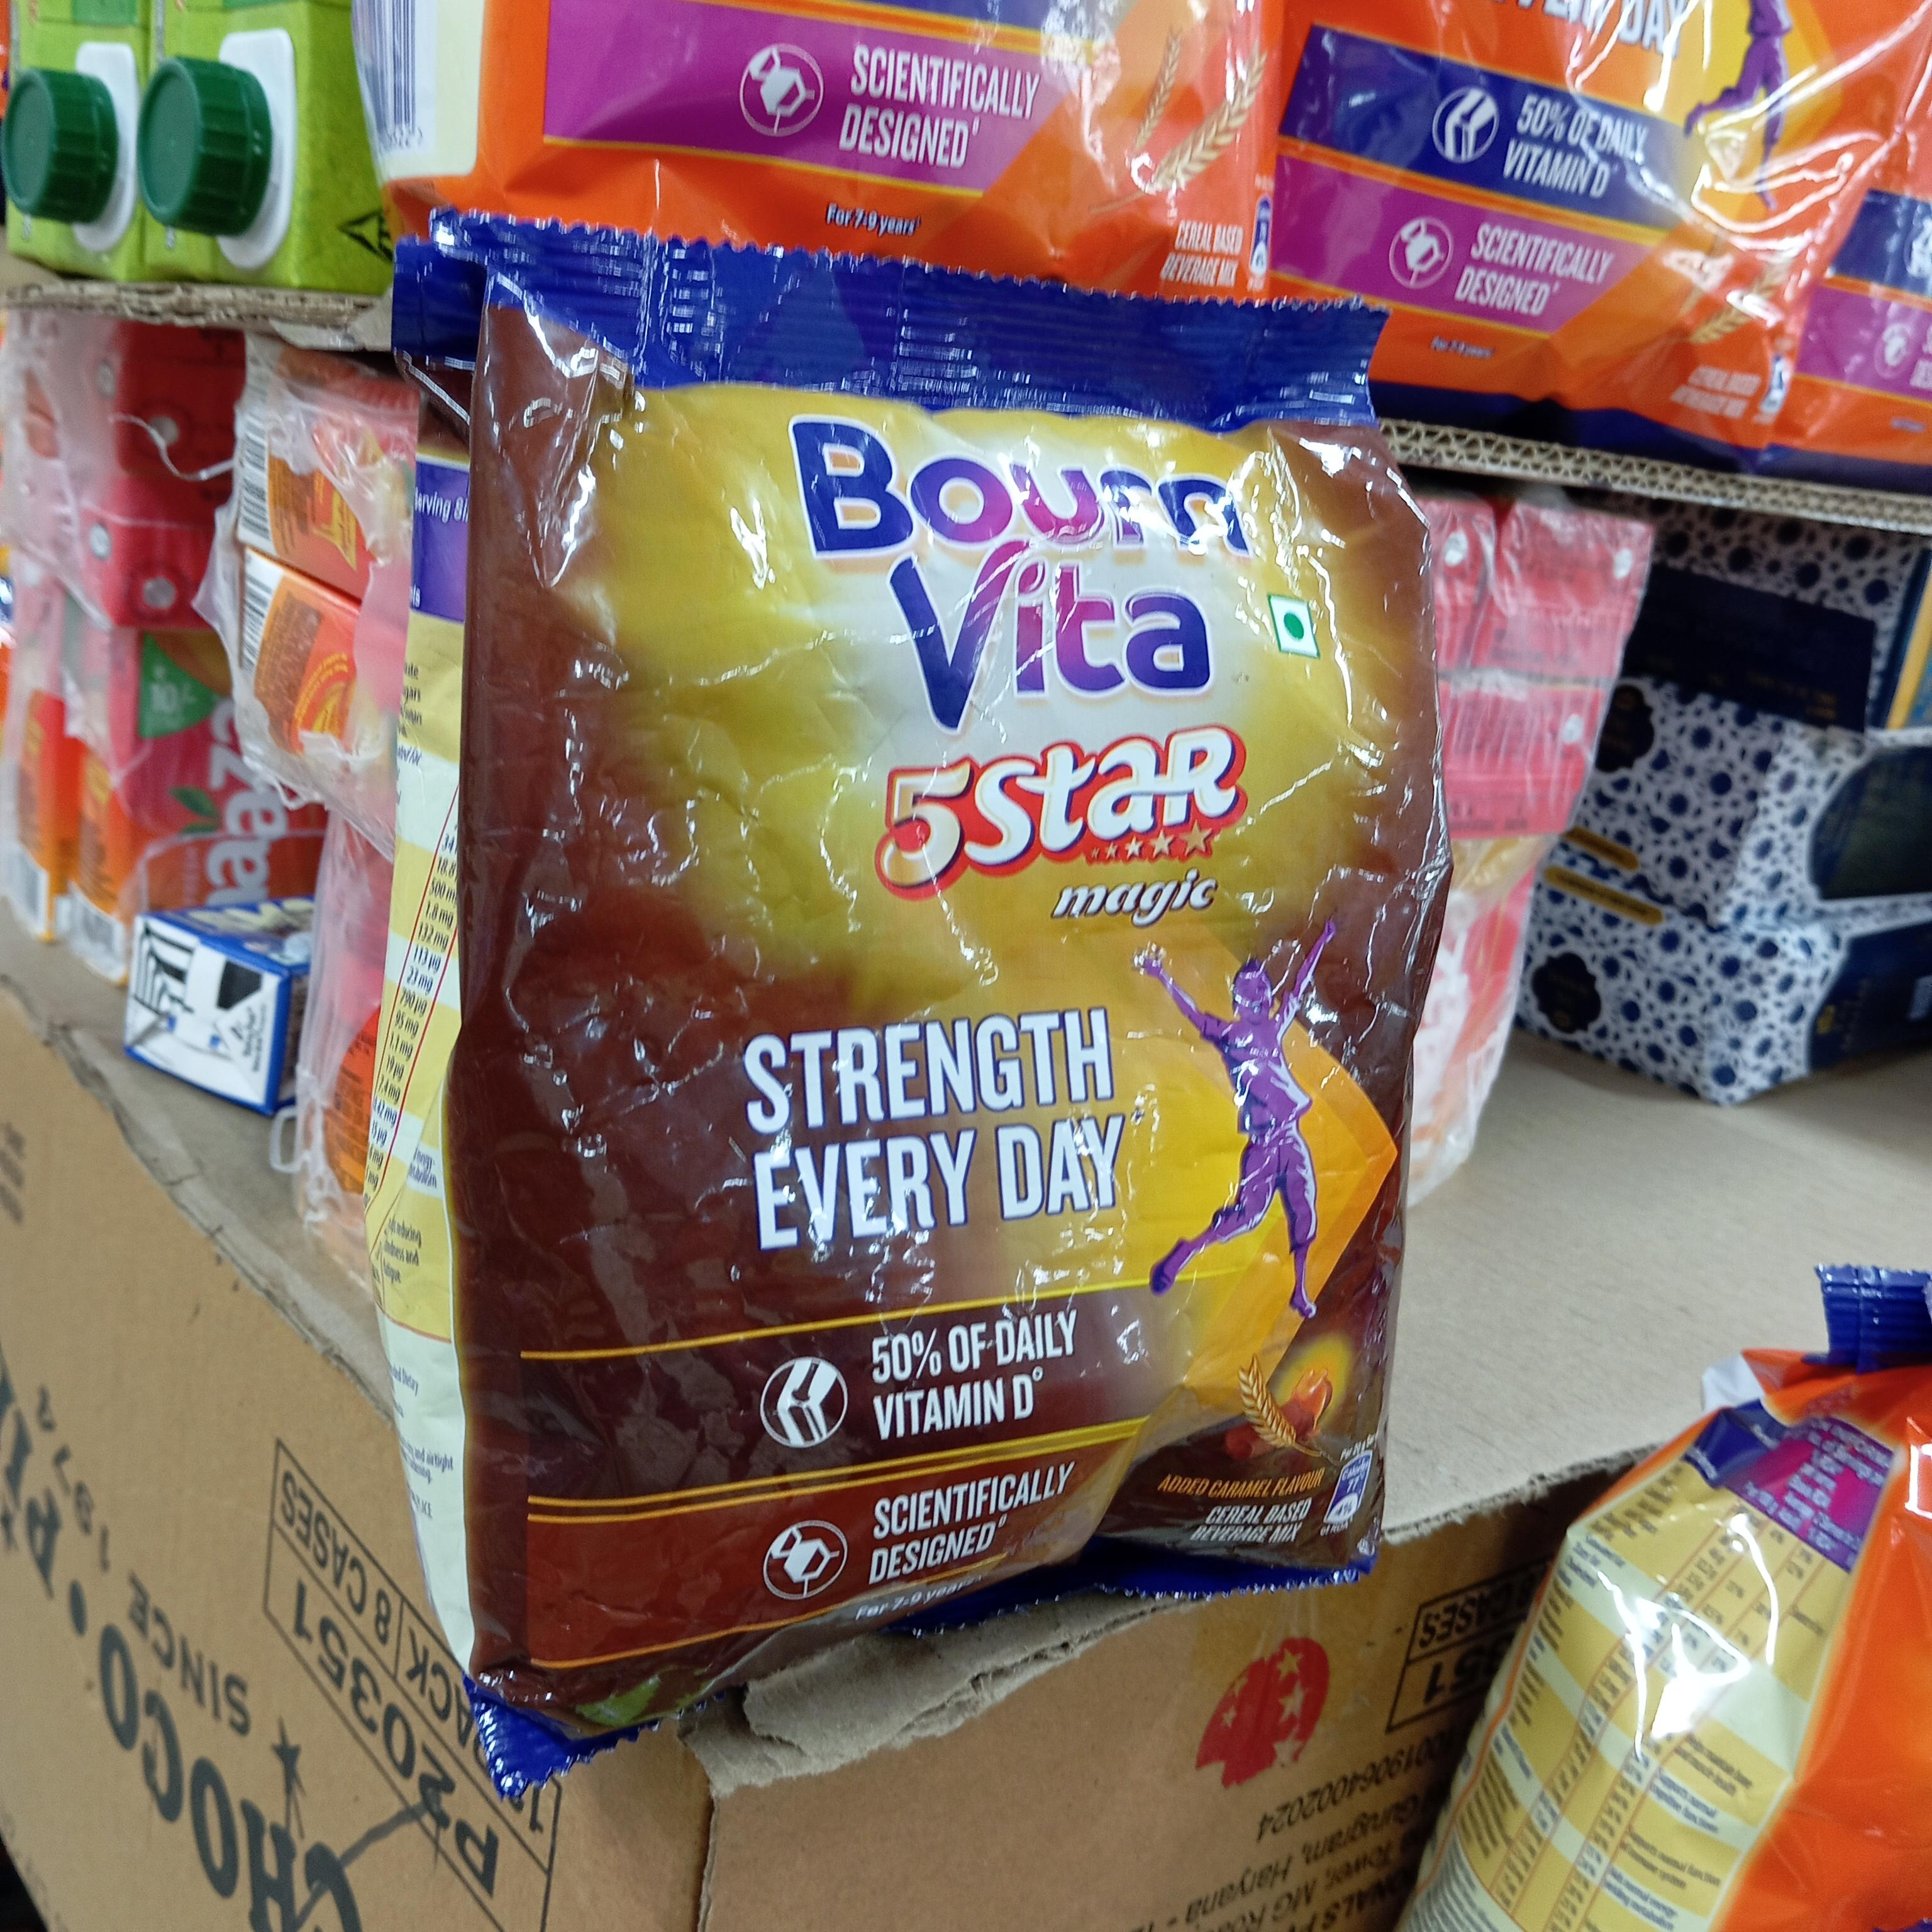BOURN_VITA_FIVE_STAR_MAGIC_500_G_POUCH: (441, 239, 1421, 1622)
